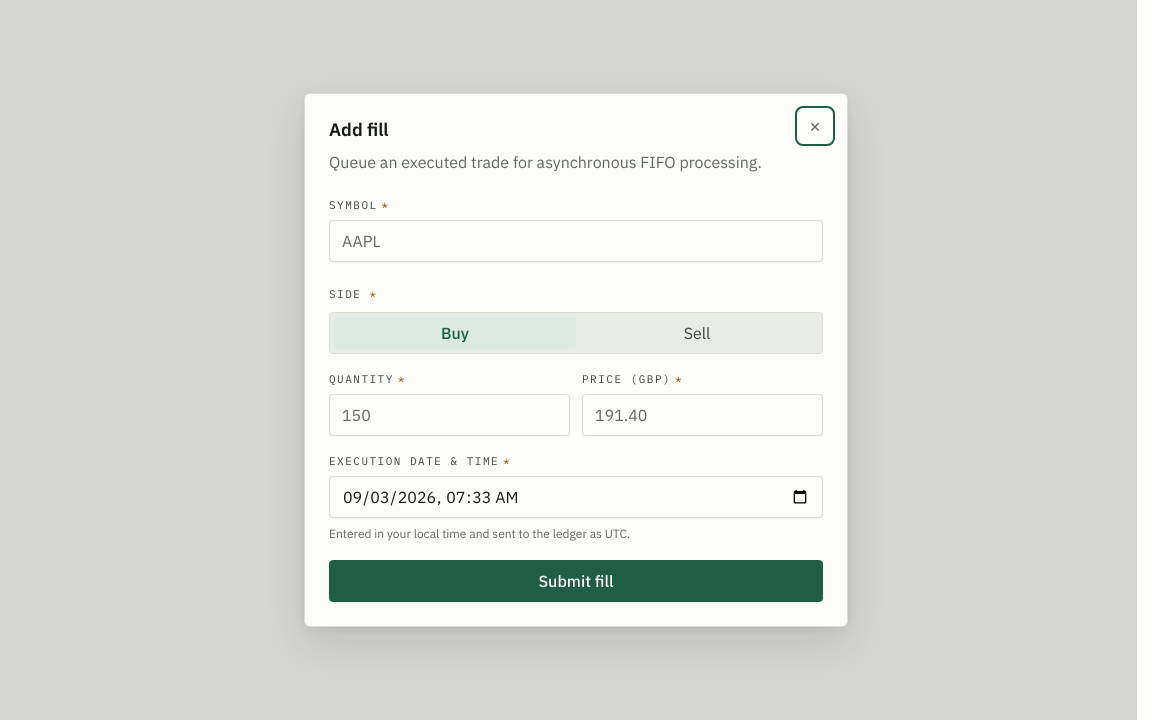
Test: AddFillDialog › validates symbol, decimal values, and execution time before submitting
Step 1. Clear the field labelled "Execution date & time*" → x=576, y=497, box 329,476 -> 823,518
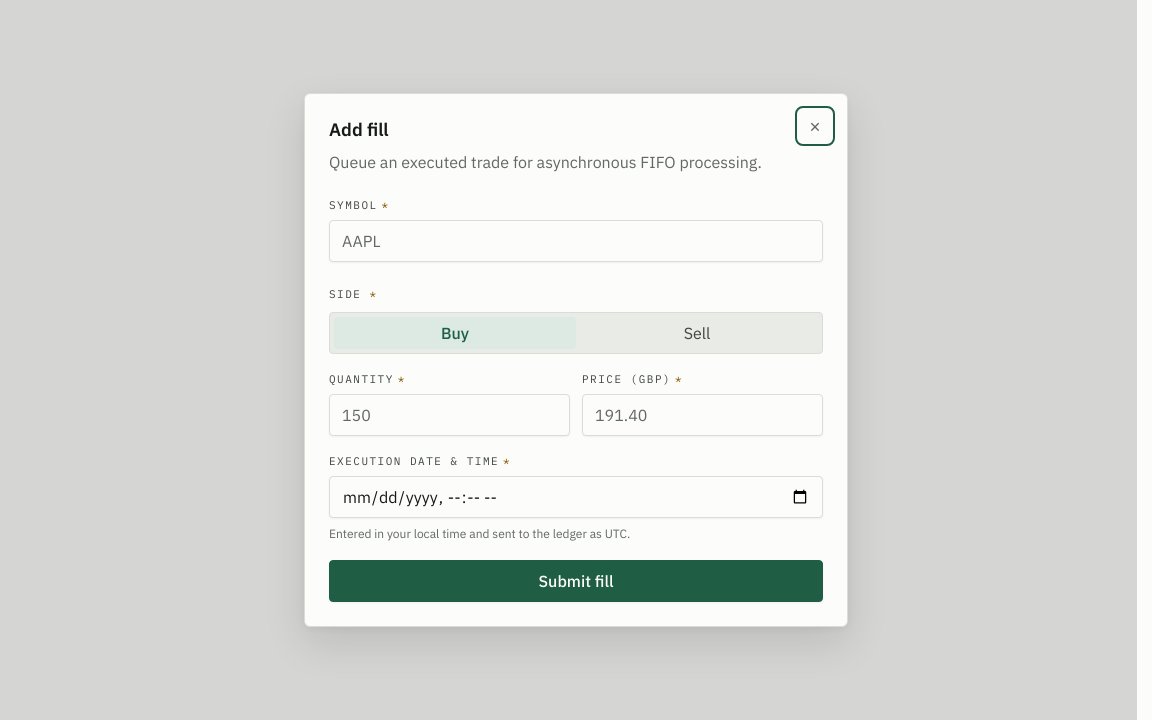
Step 2. Click the button "Submit fill" → x=576, y=581, box 329,560 -> 823,602
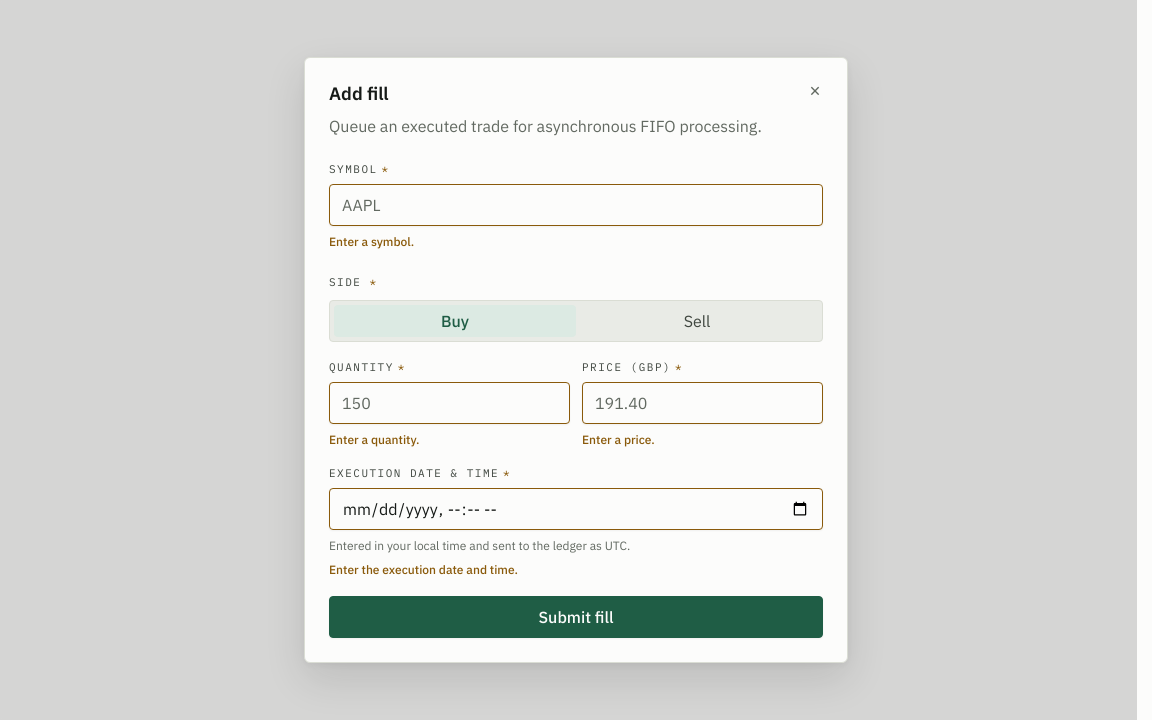
Check: the text "Enter a symbol." is shown, box 329,234 -> 414,249
Check: the text "Enter a quantity." is shown, box 329,432 -> 420,447
Check: the text "Enter a price." is shown, box 582,432 -> 655,447
